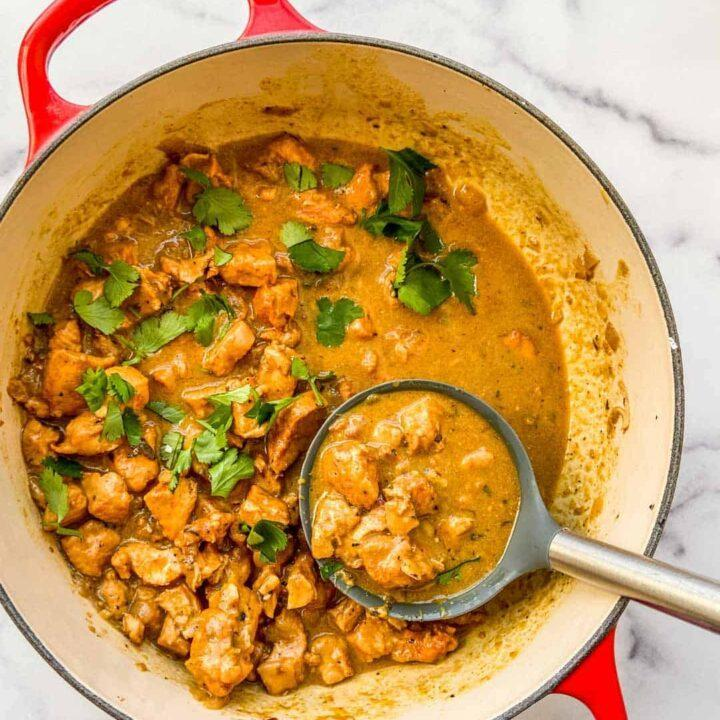chicken: (50, 117, 554, 692)
